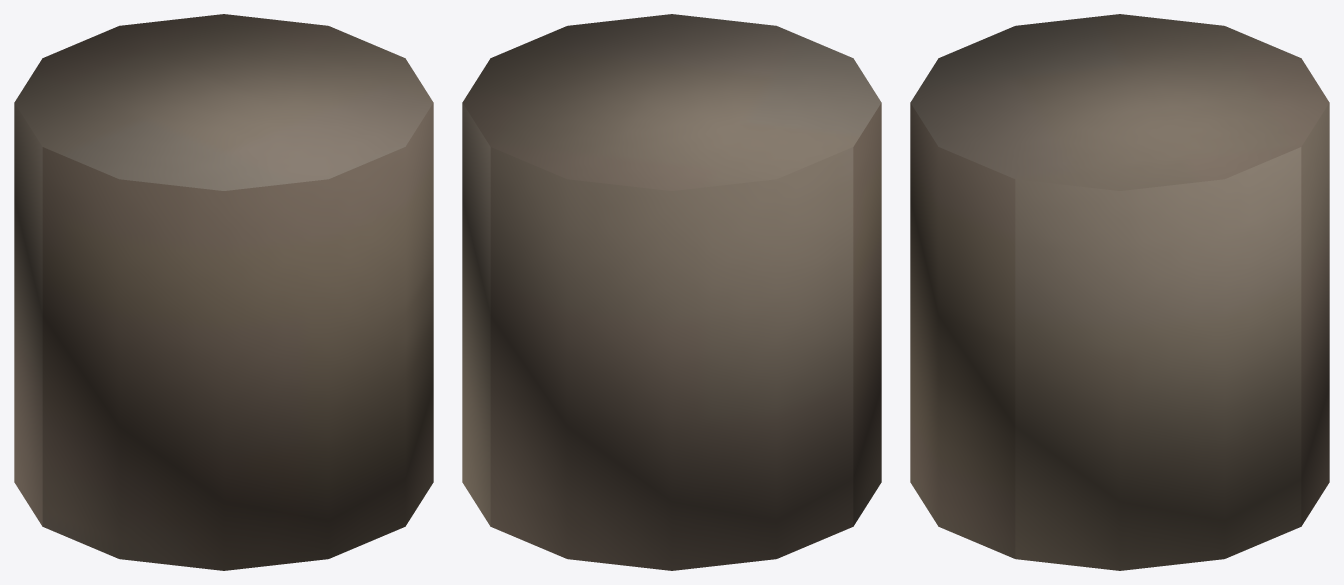
Rendered from button_holder.obj.
The picture shows the model from 3 angles, left to right: view 1: azimuth 30°, elevation 25°; view 2: azimuth 150°, elevation 25°; view 3: azimuth 270°, elevation 25°; orthographic projection.
Parts seen in each view (by area): view 1: Cylinder.005; view 2: Cylinder.005; view 3: Cylinder.005.
Boxes of the visible parts, x1,y1,x2,y2 form: Cylinder.005: [14, 14, 433, 570]; Cylinder.005: [462, 14, 881, 570]; Cylinder.005: [910, 14, 1329, 570].
Bounding box in the file's own units: 0.176 × 0.176 × 0.176.
